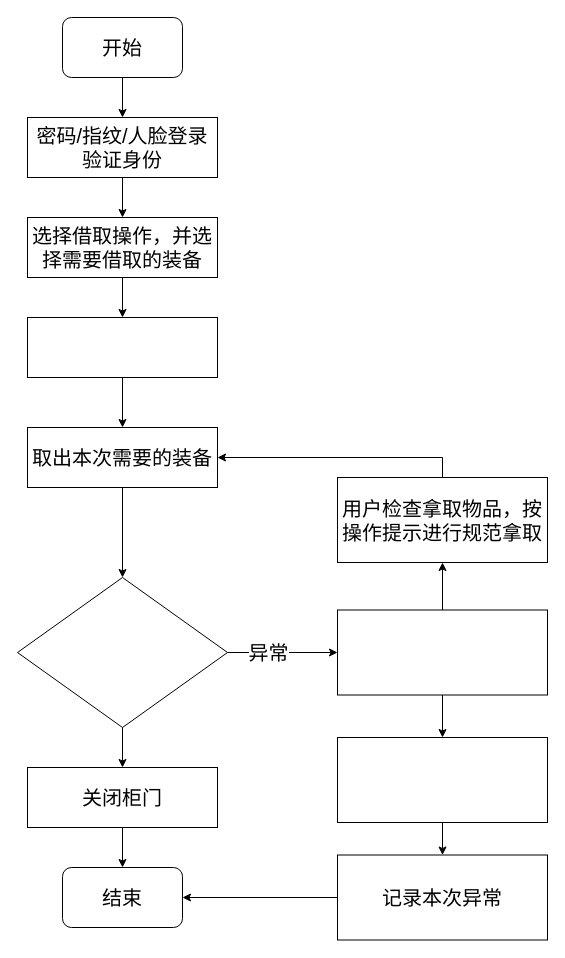
Image size: 565x958. Some labels were removed from this diagram. The shapes that lost their labels are listed below. From the top down, each one's centre as x and y in pixels, then its label:
At (122,347): "弹开相应柜门".
At (122,652): "验证是否正确取出".
At (442,652): "屏幕上提示本次取出异常，提示未按需求借出".
At (442,779): "用户无视提示，关门".
